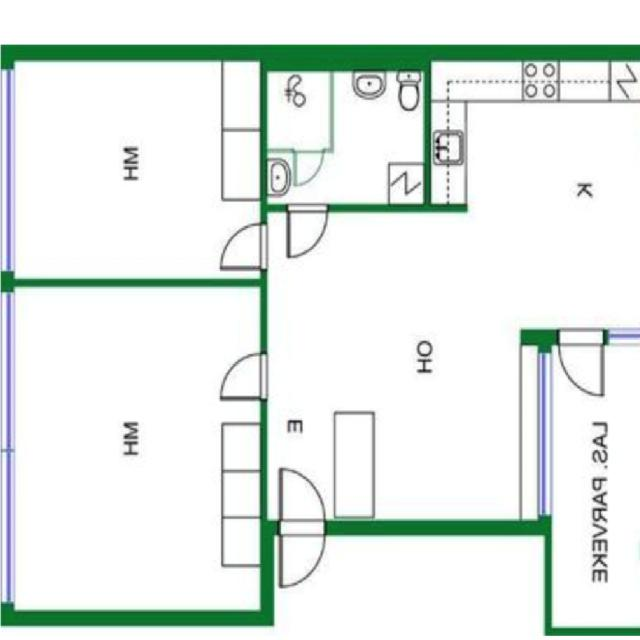door: (559, 330, 604, 396), (281, 471, 325, 535), (281, 522, 325, 586), (222, 353, 266, 399), (222, 223, 266, 269), (288, 205, 328, 255), (294, 148, 324, 185)
